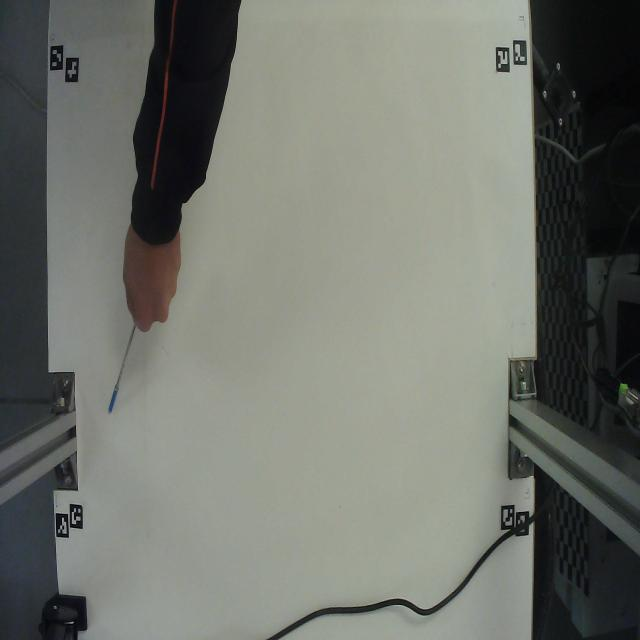Pres: (102, 313, 144, 436)
